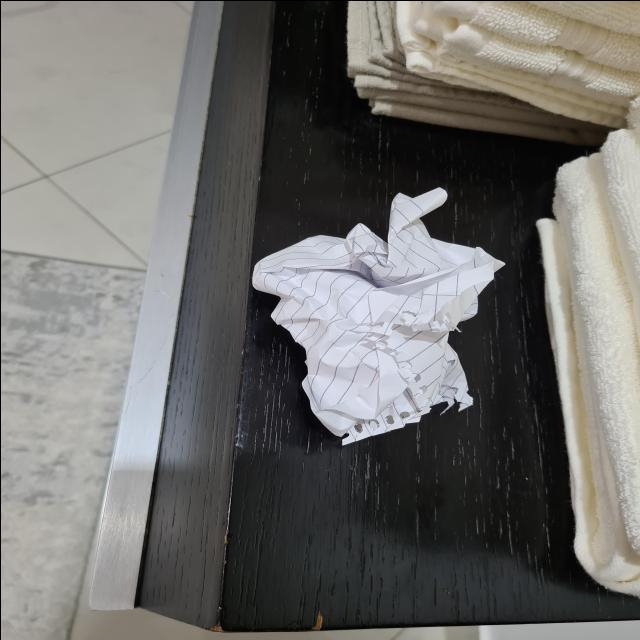kertas: (260, 190, 498, 427)
